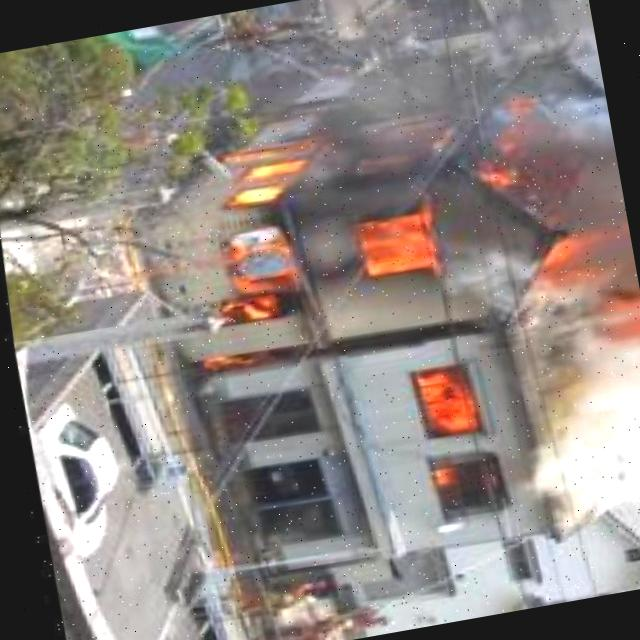fire: (115, 59, 573, 397), (540, 191, 640, 353), (396, 354, 488, 498)
